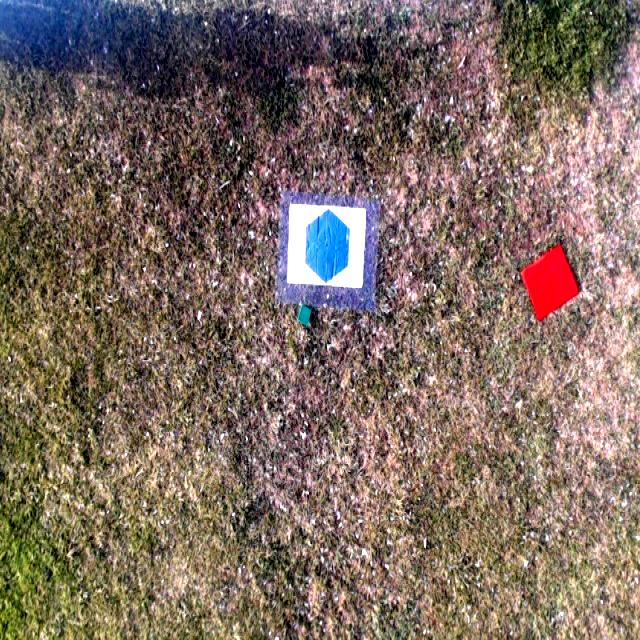blue_hexagon: (304, 210, 350, 283)
red_square: (522, 243, 579, 323)
